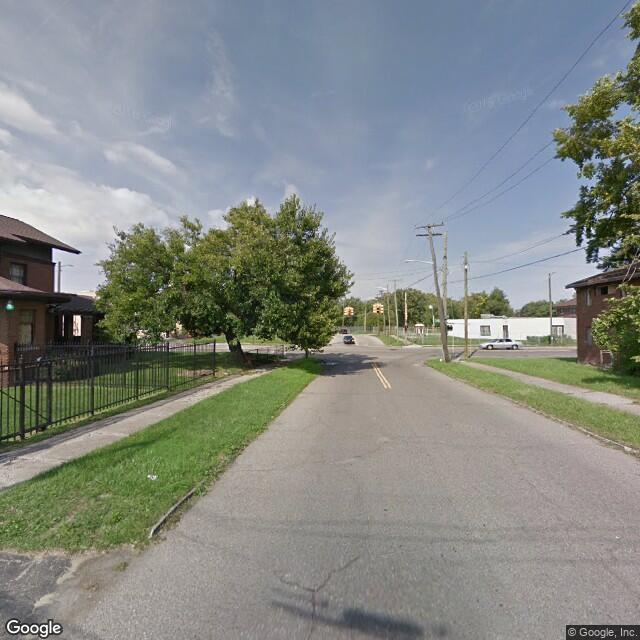litter: (146, 473, 156, 483)
